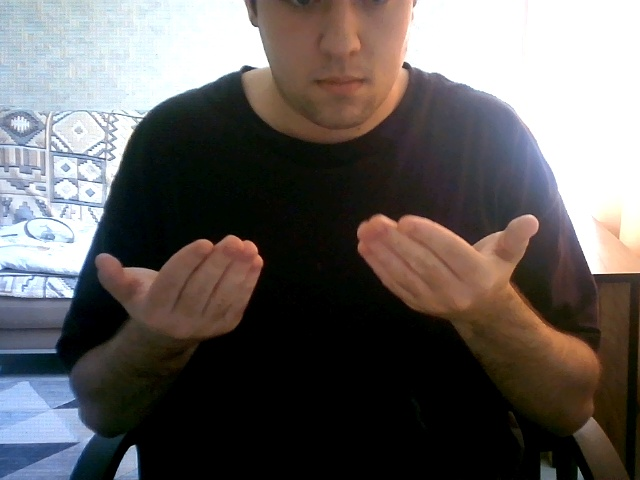hello: (78, 196, 565, 354)
